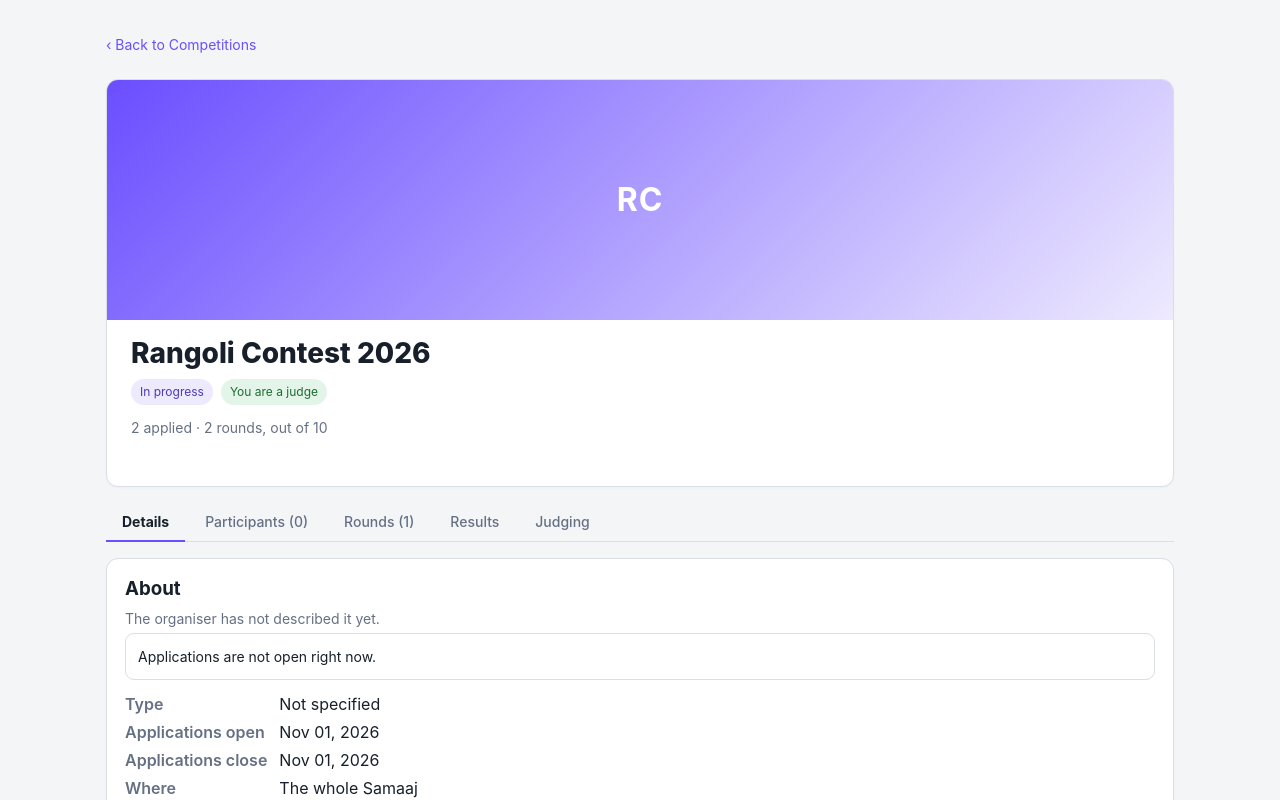
Test: CompetitionDetailComponent › shows a closed round's marks read-only
This screenshot has width=1280, height=800.
Click the tab "Judging" at (562, 522), box x1=519 y1=503 x2=606 y2=542
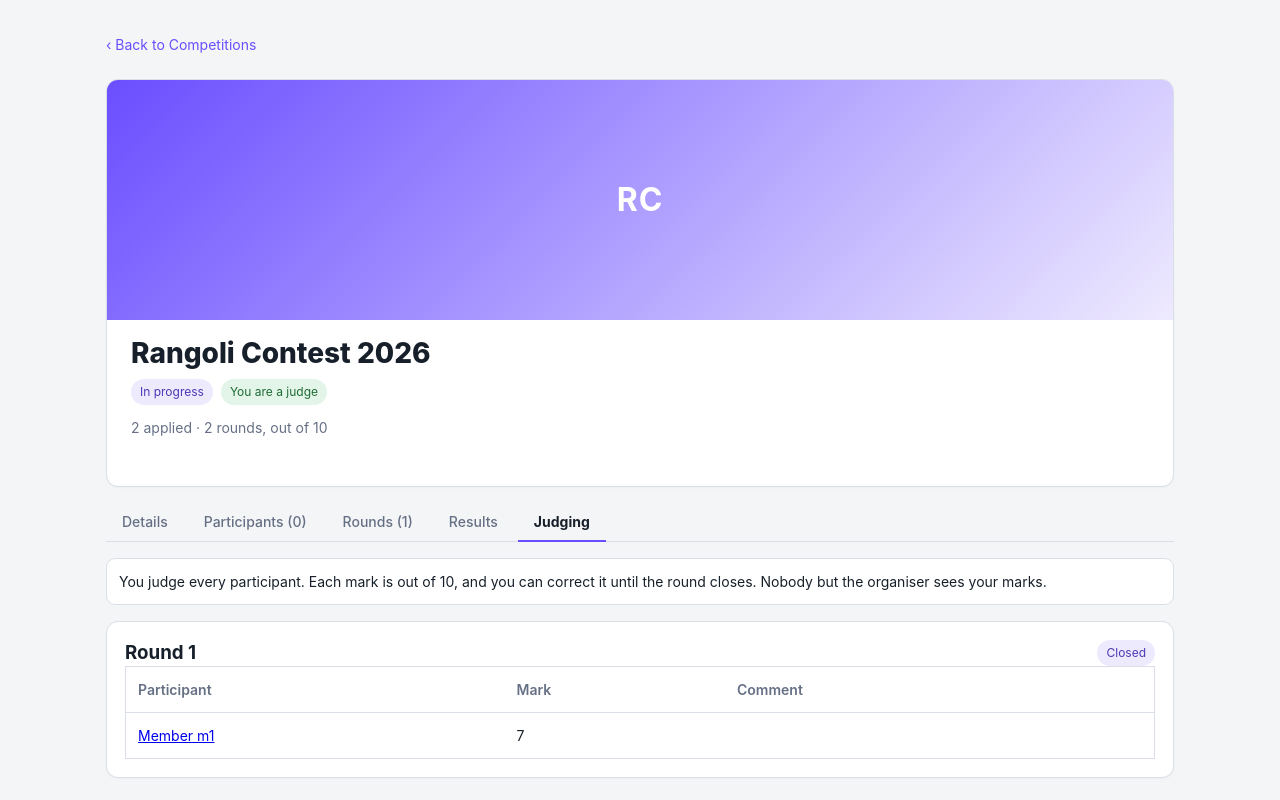
Check: the text "7" is shown, box x1=504 y1=712 x2=725 y2=758
